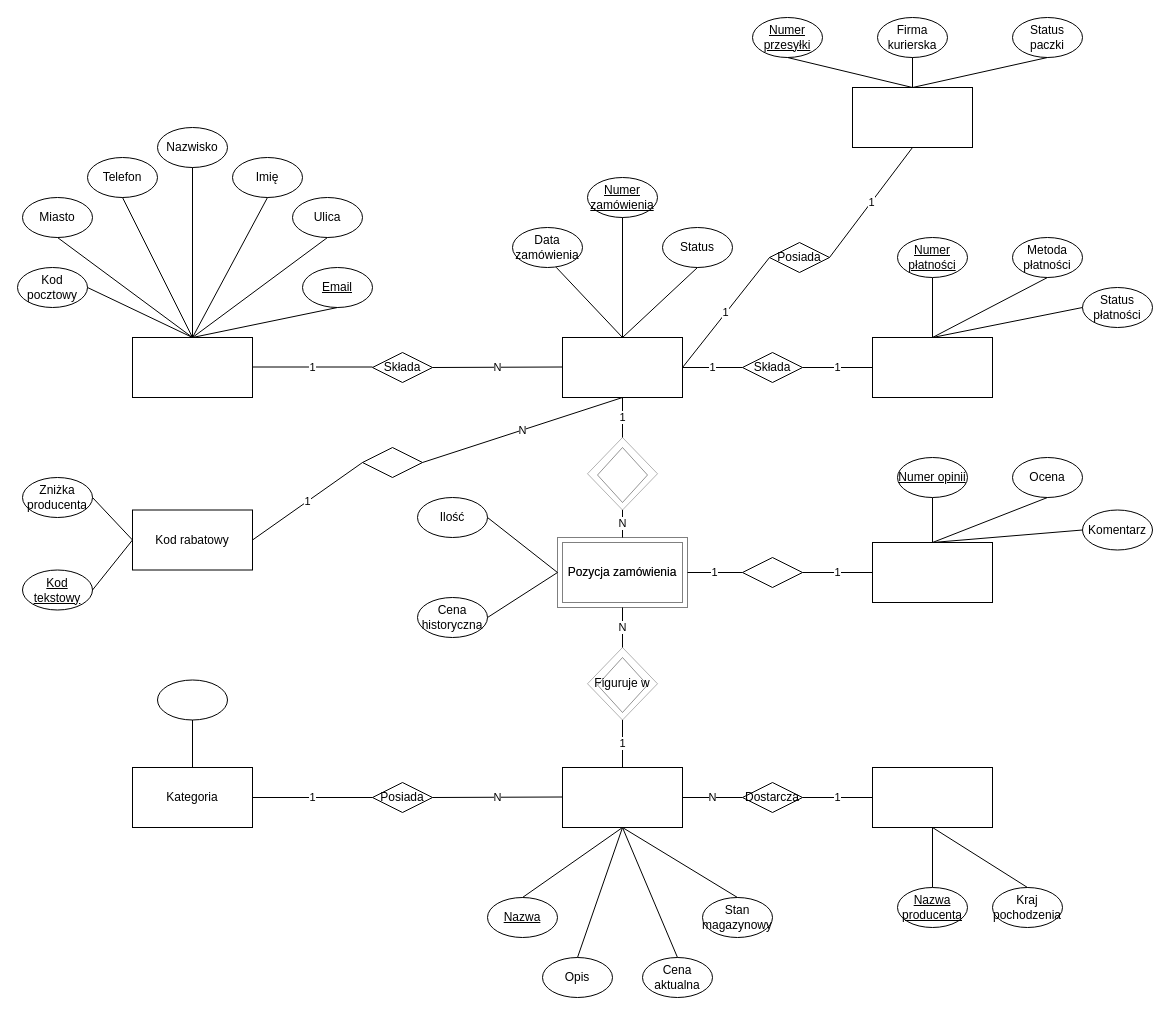
Some shapes in this 1170 by 1015 pixel diagram are drawn without their labels. Each missing label, with the centre of its shape:
"Klient" belongs at point 192,367.
"Nazwa kategorii" belongs at point 192,699.
"Obejmuje" belongs at point 392,462.
"Opinia" belongs at point 932,572.
"Otrzymuje" belongs at point 772,572.
"Producent" belongs at point 932,797.
"Produkt" belongs at point 622,797.
"Płatność" belongs at point 932,367.
"Wysyłka" belongs at point 912,117.
"Zamówienie" belongs at point 622,367.
"Zawiera" belongs at point 622,473.
